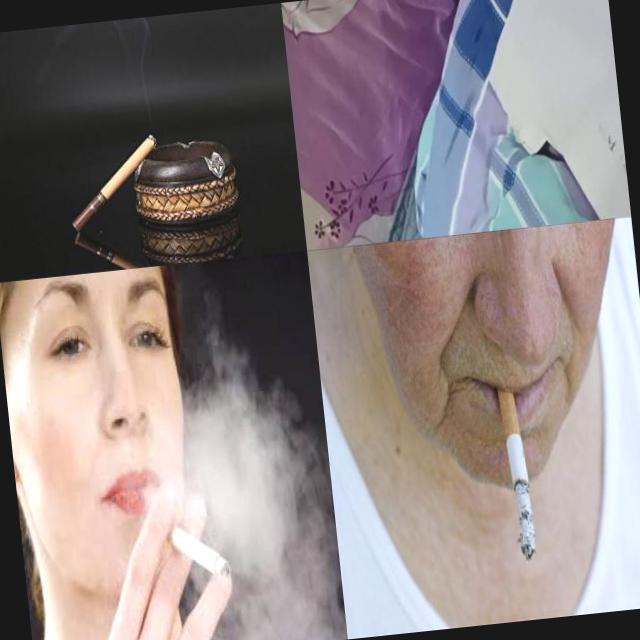cigarette: (63, 132, 166, 232), (493, 375, 538, 564), (161, 516, 231, 586), (72, 224, 143, 274)
